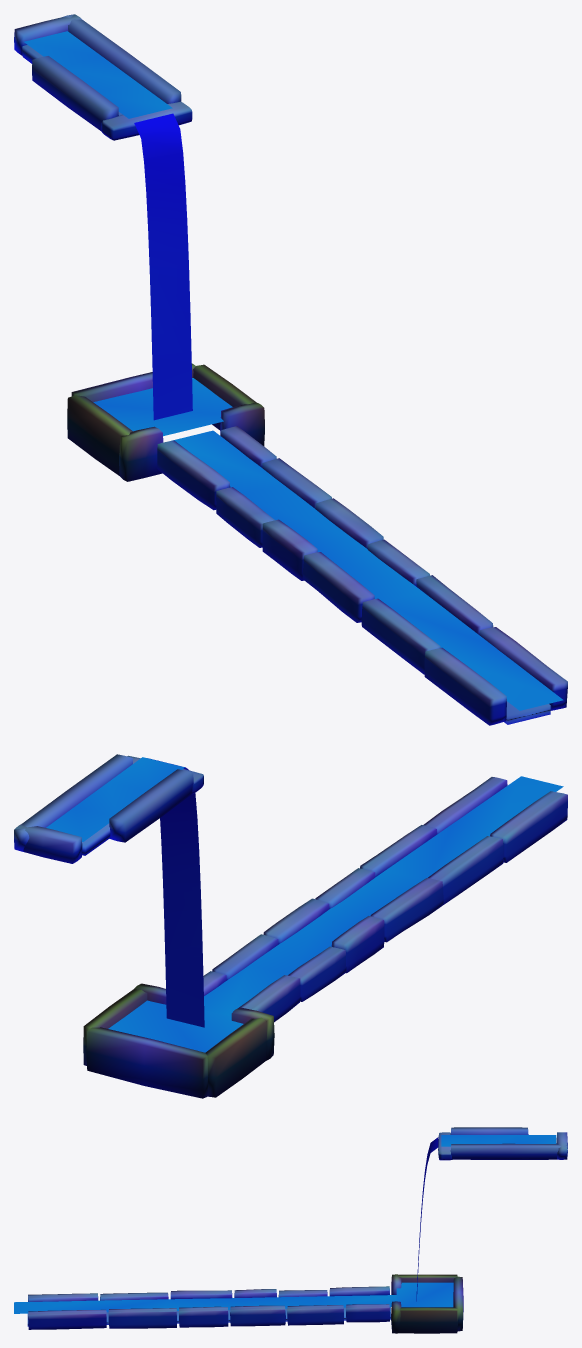
Rendered from terrace_spill_r.glb.
3 renders of one model, top to bottom at view 1: azimuth 30°, elevation 25°; view 2: azimuth 150°, elevation 25°; view 3: azimuth 270°, elevation 25°, orthographic. The views are drawn at different scales.
Parts seen in each view (by area): view 1: terrace_spill_r; view 2: terrace_spill_r; view 3: terrace_spill_r.
Boxes of the visible parts, x1,y1,x2,y2 form: terrace_spill_r: [14, 14, 567, 725]; terrace_spill_r: [14, 754, 567, 1098]; terrace_spill_r: [14, 1127, 567, 1333].
Size of what is drawn, in the model's own units: 1.14 by 2.62 by 7.17.
